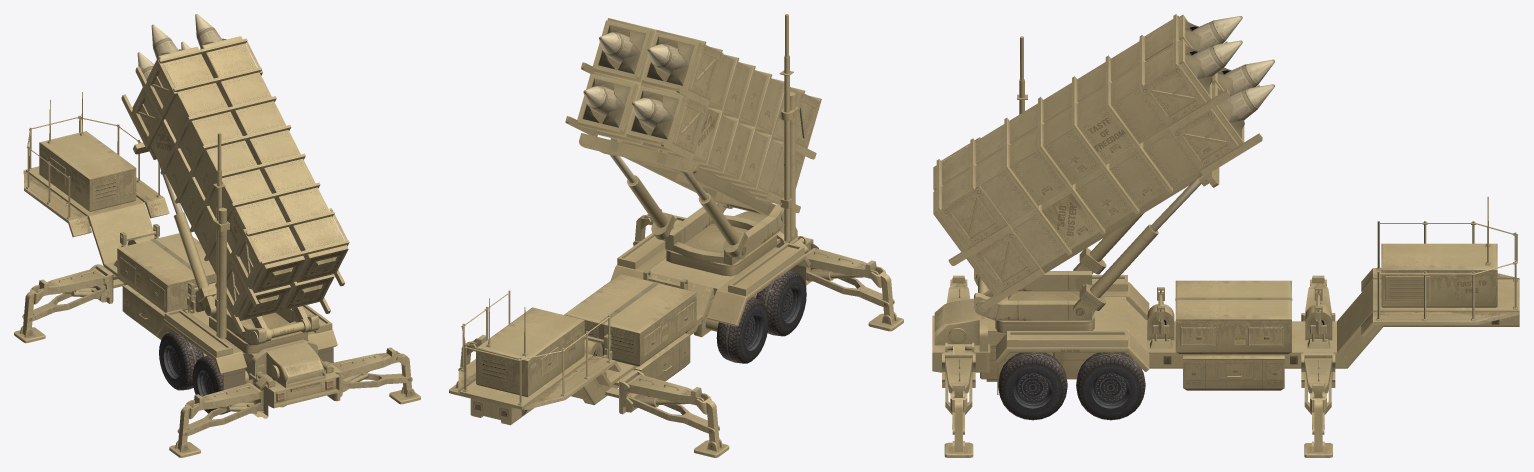
The model's file is patriot.glb.
3 renders of one model, left to right at view 1: azimuth 30°, elevation 25°; view 2: azimuth 150°, elevation 25°; view 3: azimuth 270°, elevation 25°, orthographic. The views are drawn at different scales.
Visible parts, largest first — view 1: V_patriot; view 2: V_patriot; view 3: V_patriot.
Part boxes in pixels (x1=…): V_patriot: x1=14, y1=14, x2=420, y2=457; V_patriot: x1=449, y1=14, x2=903, y2=457; V_patriot: x1=932, y1=14, x2=1519, y2=457.
Bounding box in the file's own units: 15.99 × 19.86 × 29.12.
Materials: 2 (2 with a texture image).
